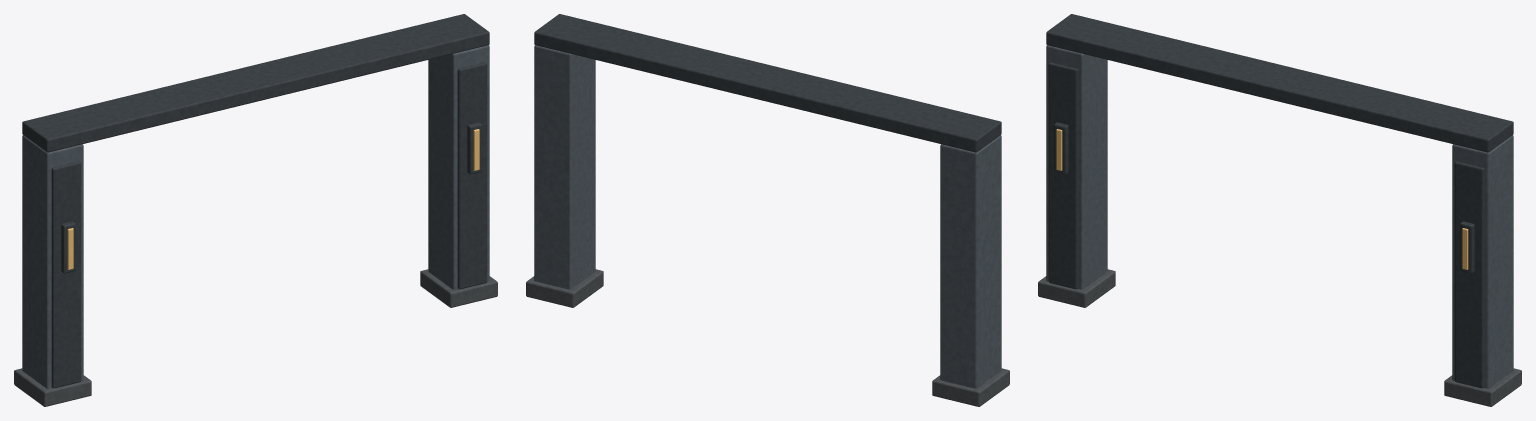
Rendered from SF_InteriorBay_20.glb.
3 views of the same model, side by side, from view 1: azimuth 30°, elevation 25°; view 2: azimuth 150°, elevation 25°; view 3: azimuth 330°, elevation 25° (orthographic).
Parts seen in each view (by area): view 1: SF_InteriorBay_20; view 2: SF_InteriorBay_20; view 3: SF_InteriorBay_20.
Part boxes in pixels (bbox=[...]): SF_InteriorBay_20: bbox=[14, 14, 497, 406]; SF_InteriorBay_20: bbox=[526, 14, 1009, 406]; SF_InteriorBay_20: bbox=[1038, 14, 1521, 406].
Size of the model in its own units: 24.6 by 13.7 by 3.16.
1 material, 1 textured.
